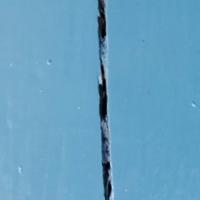crack: (76, 0, 127, 199)
